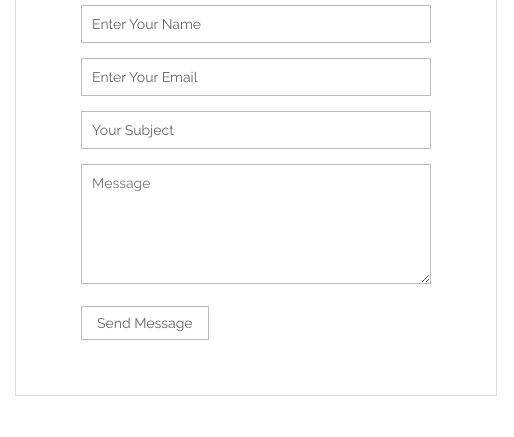
Test: contact page › renders contact form with success message
In the field with placeholder "Enter Your Name": (256, 24) [81, 5, 431, 43], type "Joshua"
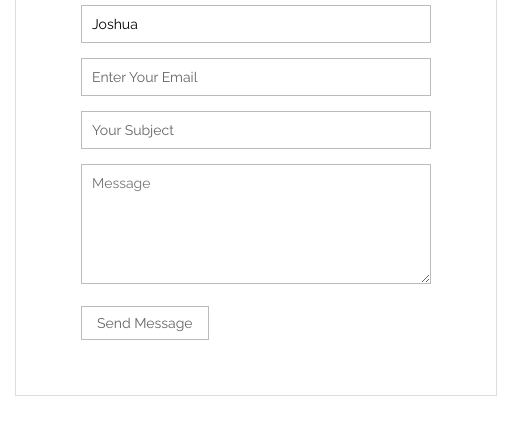
In the field with placeholder "Enter Your Email": (256, 77) [81, 58, 431, 96], type "jo@jo"
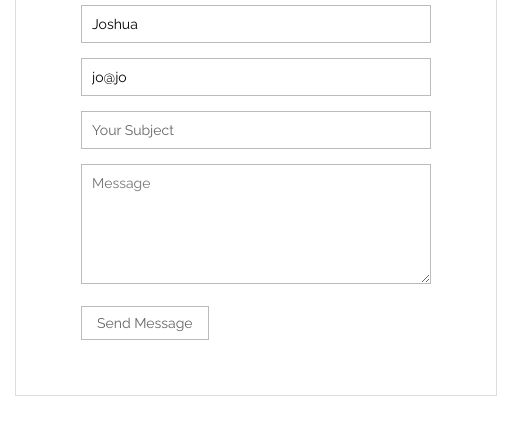
In the field with placeholder "Your Subject": (256, 130) [81, 111, 431, 149], type "Hello World"
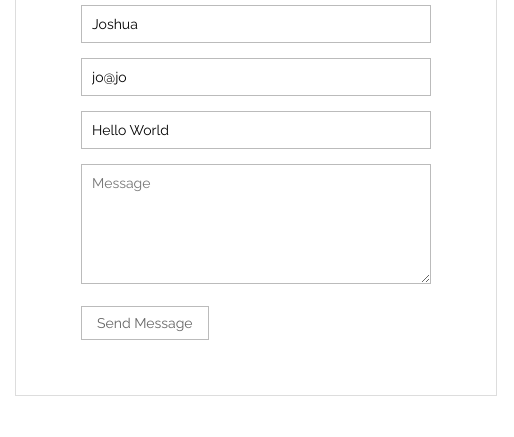
In the text box with placeholder "Message": (256, 224) [81, 164, 431, 284], type "I have a message and a subject whose length greater than 15 and 5 respectively"
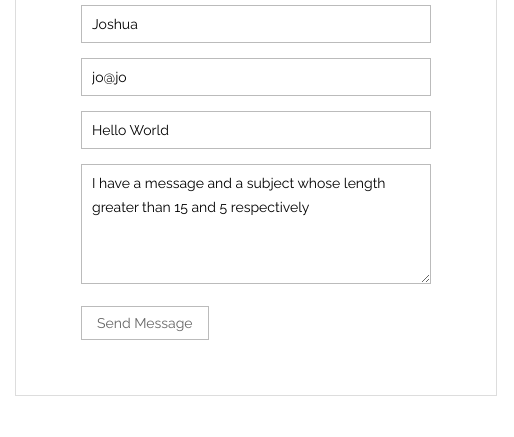
Click the button "Send Message": (145, 323) [81, 306, 209, 340]
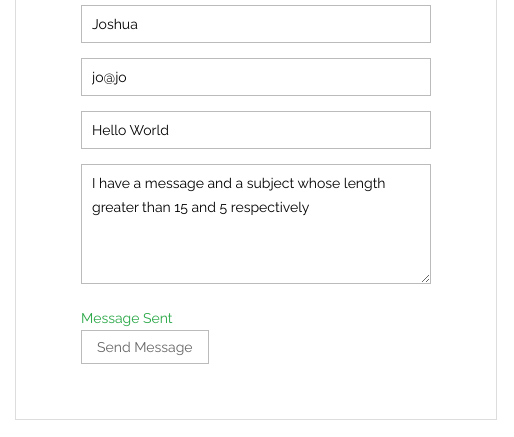
Now the text with test id "msg" reads "Message Sent", box [81, 310, 172, 326]
